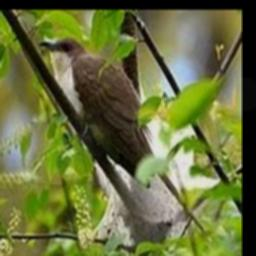Cuckoo: (39, 37, 203, 230)
